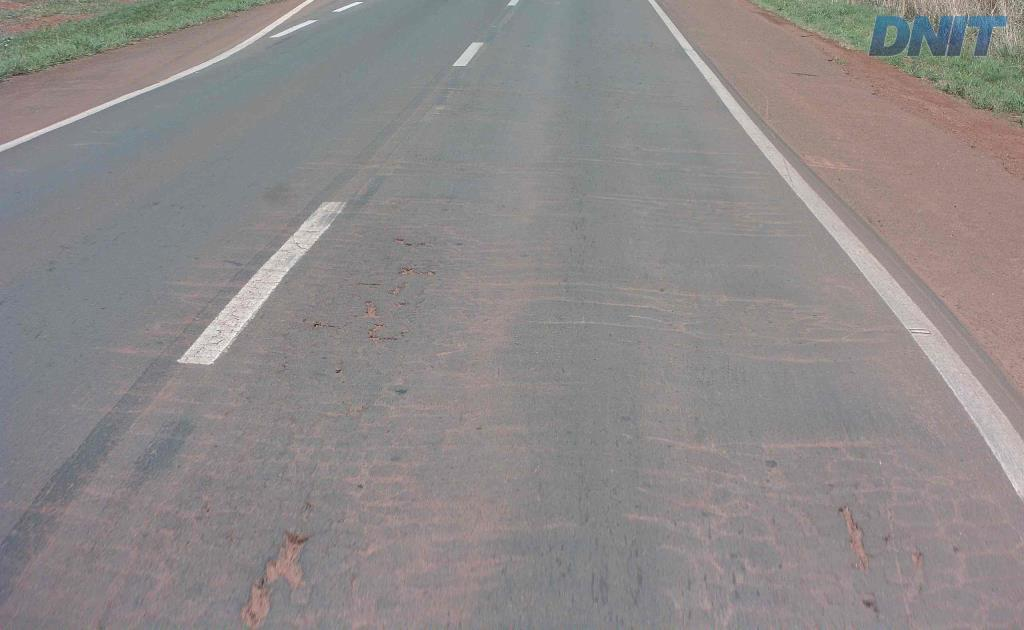pothole: (225, 526, 311, 628), (831, 495, 876, 574), (355, 296, 404, 345), (391, 264, 440, 277), (394, 231, 420, 250)
